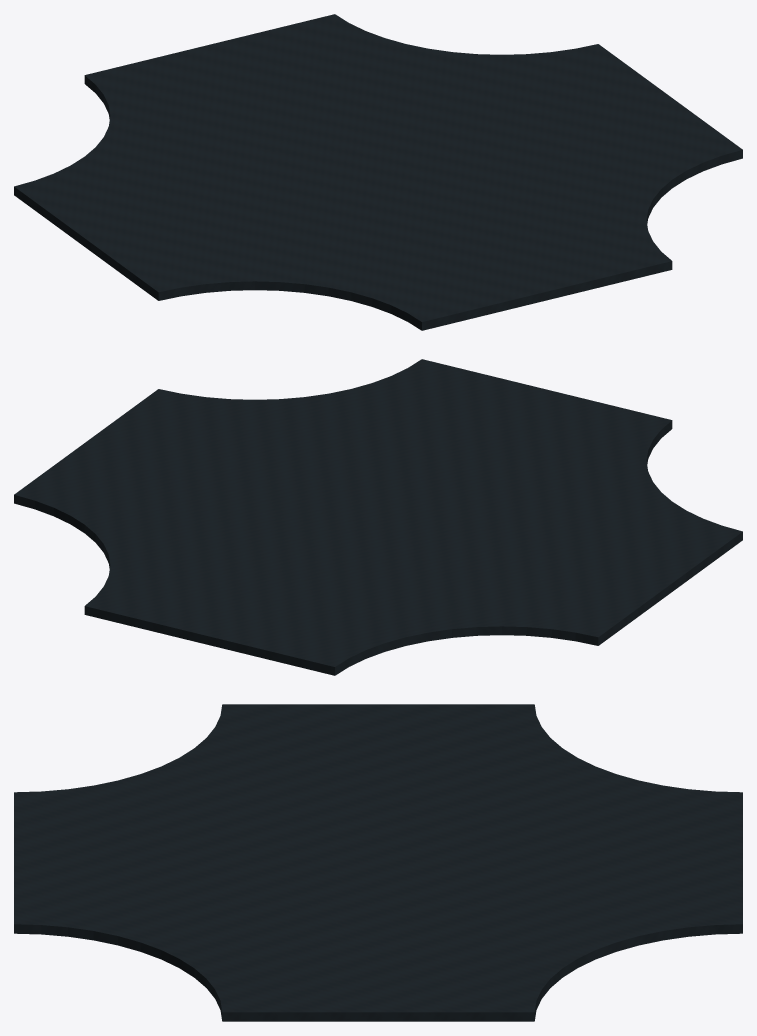
Rendered from Transit_Road_2L_XJunction_R4_Surface.glb.
3 views of the same model, one above another, from view 1: azimuth 30°, elevation 25°; view 2: azimuth 150°, elevation 25°; view 3: azimuth 270°, elevation 25° (orthographic). The views are drawn at different scales.
Visible parts, largest first — view 1: Transit_Road_2L_XJunction_R4_Surface; view 2: Transit_Road_2L_XJunction_R4_Surface; view 3: Transit_Road_2L_XJunction_R4_Surface.
Boxes of the visible parts, left/top/right/bottom form: Transit_Road_2L_XJunction_R4_Surface: left=14, top=14, right=742, bottom=330; Transit_Road_2L_XJunction_R4_Surface: left=14, top=359, right=742, bottom=675; Transit_Road_2L_XJunction_R4_Surface: left=14, top=704, right=742, bottom=1021.
Bounding box in the file's own units: 14 × 0.2 × 14.
1 material, 1 textured.
